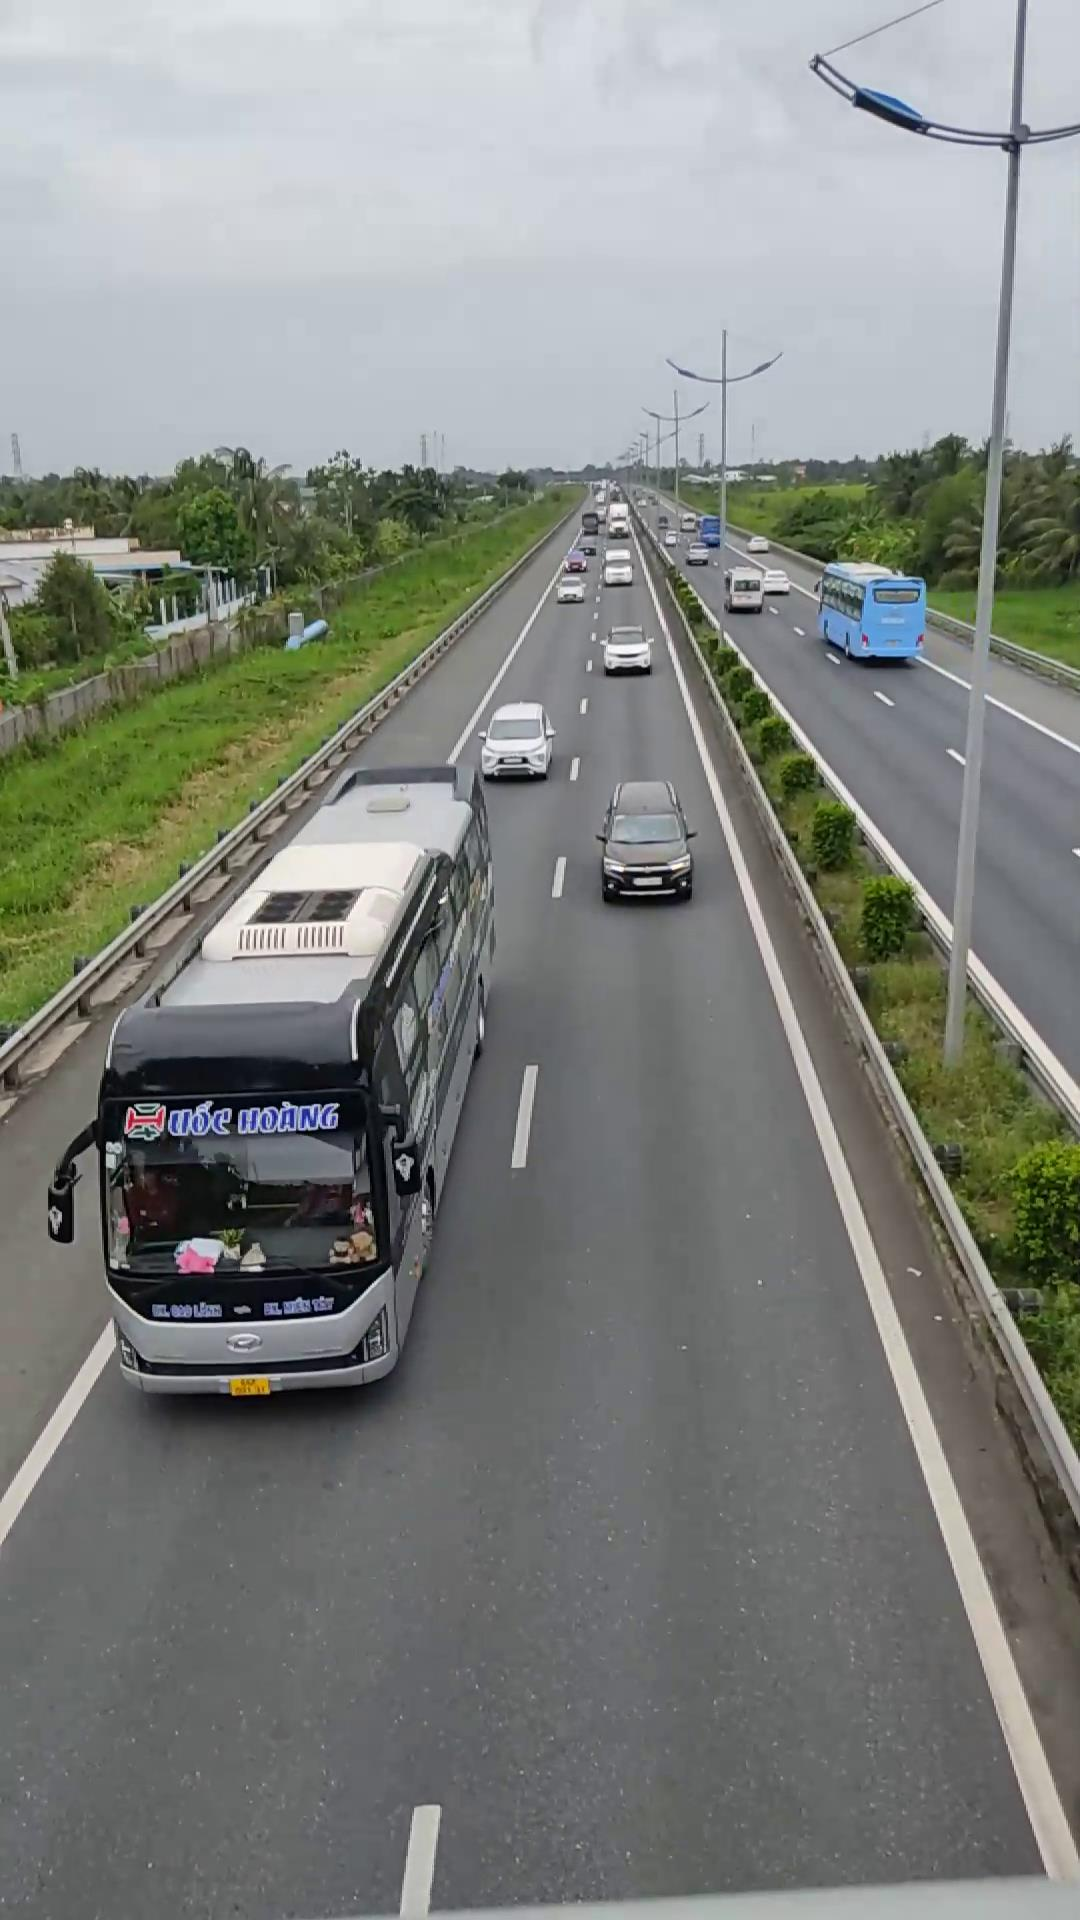bus: (78, 769, 496, 1395)
car: (476, 702, 556, 779)
